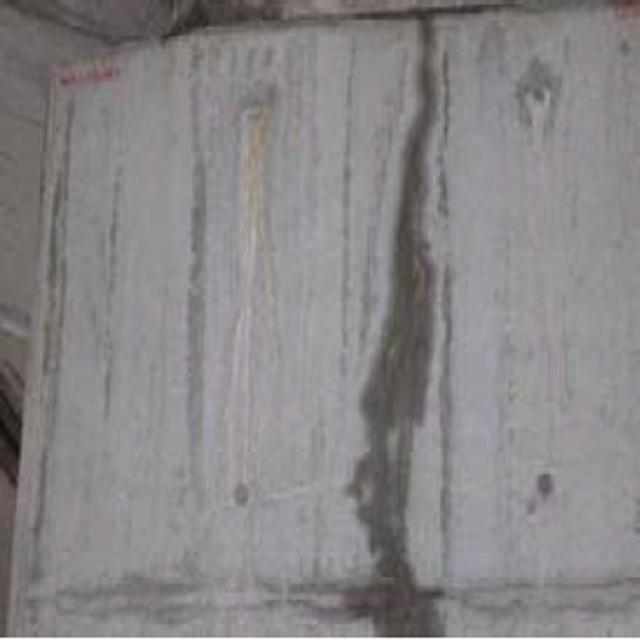leakage: (331, 11, 466, 640)
